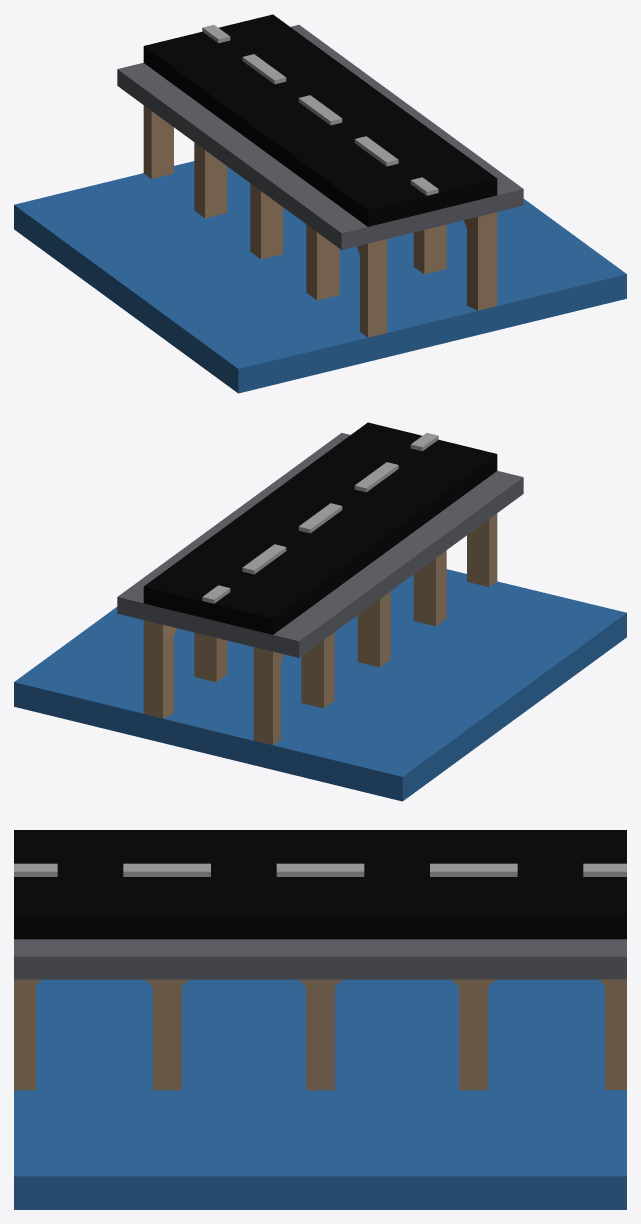
The model's file is Street_Bridge_Water.glb.
The picture shows the model from 3 angles, top to bottom: view 1: azimuth 30°, elevation 25°; view 2: azimuth 150°, elevation 25°; view 3: azimuth 270°, elevation 25°; orthographic projection. The views are drawn at different scales.
Visible parts, largest first — view 1: Street_Bridge_Water; view 2: Street_Bridge_Water; view 3: Street_Bridge_Water.
Boxes of the visible parts, x1,y1,x2,y2 form: Street_Bridge_Water: [14, 14, 626, 393]; Street_Bridge_Water: [14, 422, 626, 801]; Street_Bridge_Water: [14, 830, 626, 1209].
Size of the model in its own units: 2 by 0.7659 by 2.
